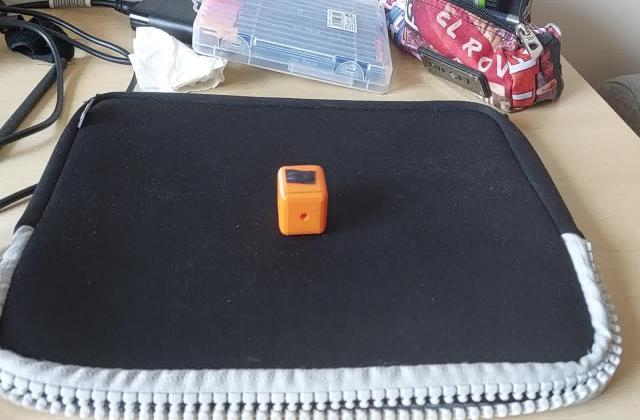black: (284, 168, 320, 188)
cube: (276, 164, 331, 238)
